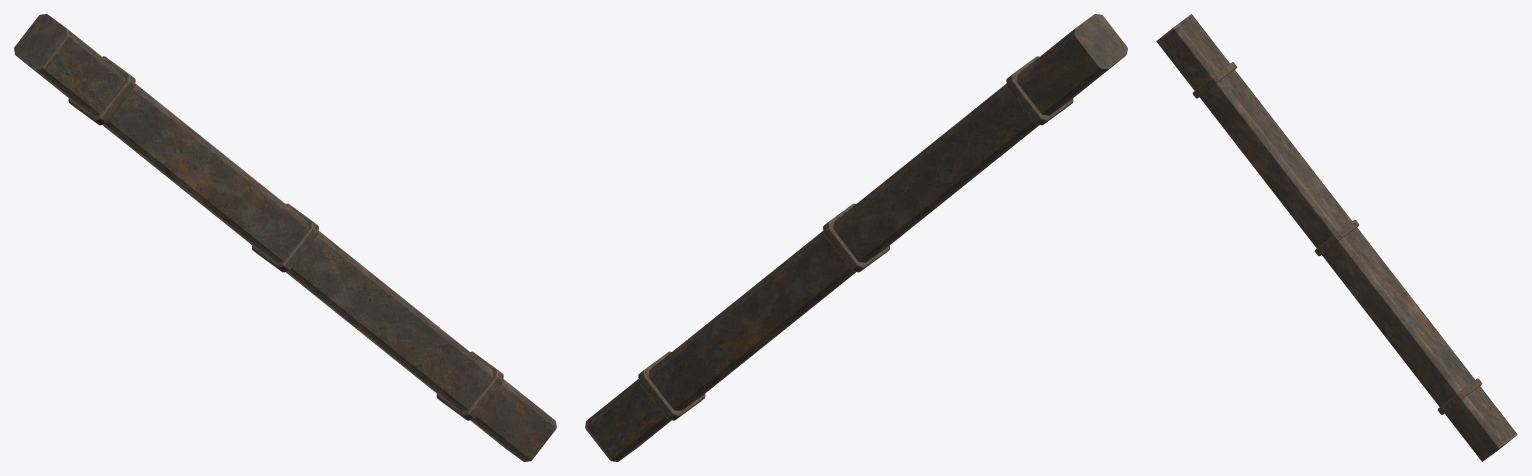
The picture shows the model from 3 angles, left to right: view 1: azimuth 30°, elevation 25°; view 2: azimuth 150°, elevation 25°; view 3: azimuth 330°, elevation 25°; orthographic projection. The views are drawn at different scales.
Parts seen in each view (by area): view 1: SM_BB_T3_Extended_Beam_Thin_Large_Diagonal_LOD0; view 2: SM_BB_T3_Extended_Beam_Thin_Large_Diagonal_LOD0; view 3: SM_BB_T3_Extended_Beam_Thin_Large_Diagonal_LOD0.
Boxes of the visible parts, x1=… form: SM_BB_T3_Extended_Beam_Thin_Large_Diagonal_LOD0: x1=14, y1=14, x2=556, y2=461; SM_BB_T3_Extended_Beam_Thin_Large_Diagonal_LOD0: x1=585, y1=14, x2=1127, y2=461; SM_BB_T3_Extended_Beam_Thin_Large_Diagonal_LOD0: x1=1156, y1=14, x2=1517, y2=461.
Bounding box in the file's own units: 3.21 × 3.21 × 0.3367.
1 material, 1 textured.
